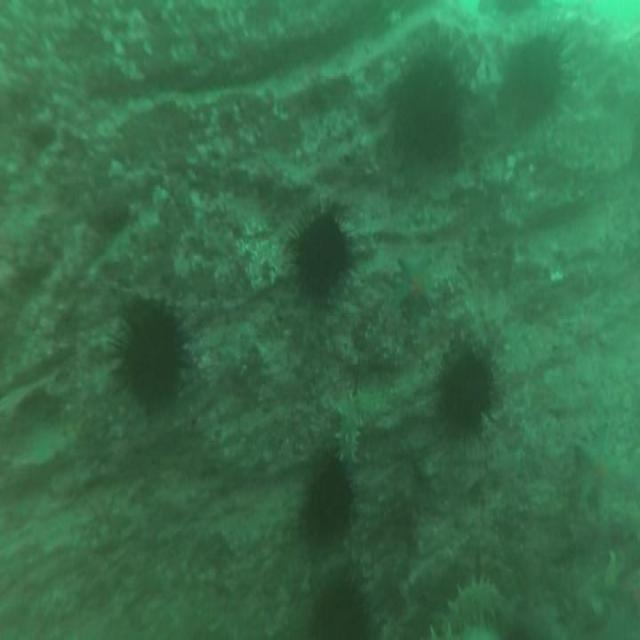echinus: (109, 292, 191, 423), (496, 10, 575, 139), (385, 43, 464, 172), (436, 333, 498, 452), (284, 199, 349, 311), (300, 457, 356, 556), (308, 572, 380, 640)
holothurian: (430, 562, 504, 640), (335, 381, 368, 468)
starfish: (386, 243, 444, 321)
